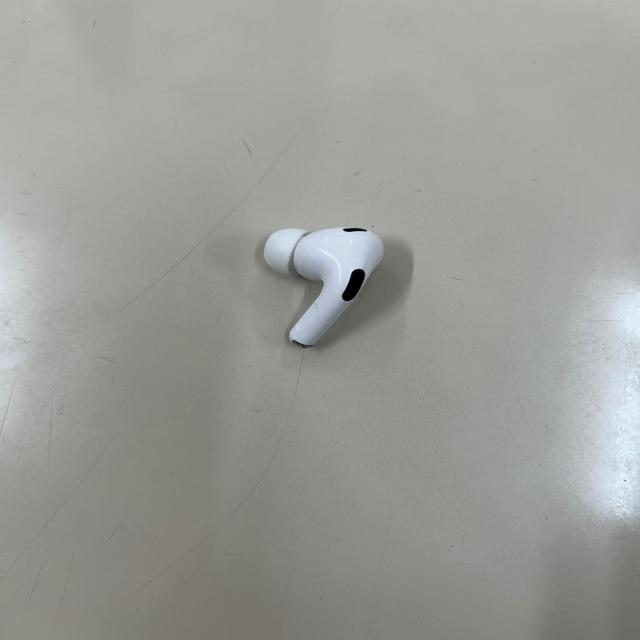inorganic: (260, 224, 386, 349)
